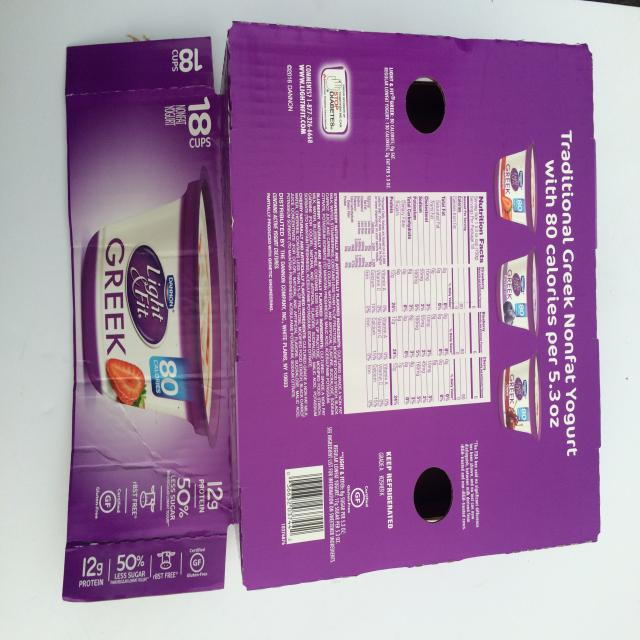cardboard: (224, 19, 602, 590), (62, 35, 238, 601)
